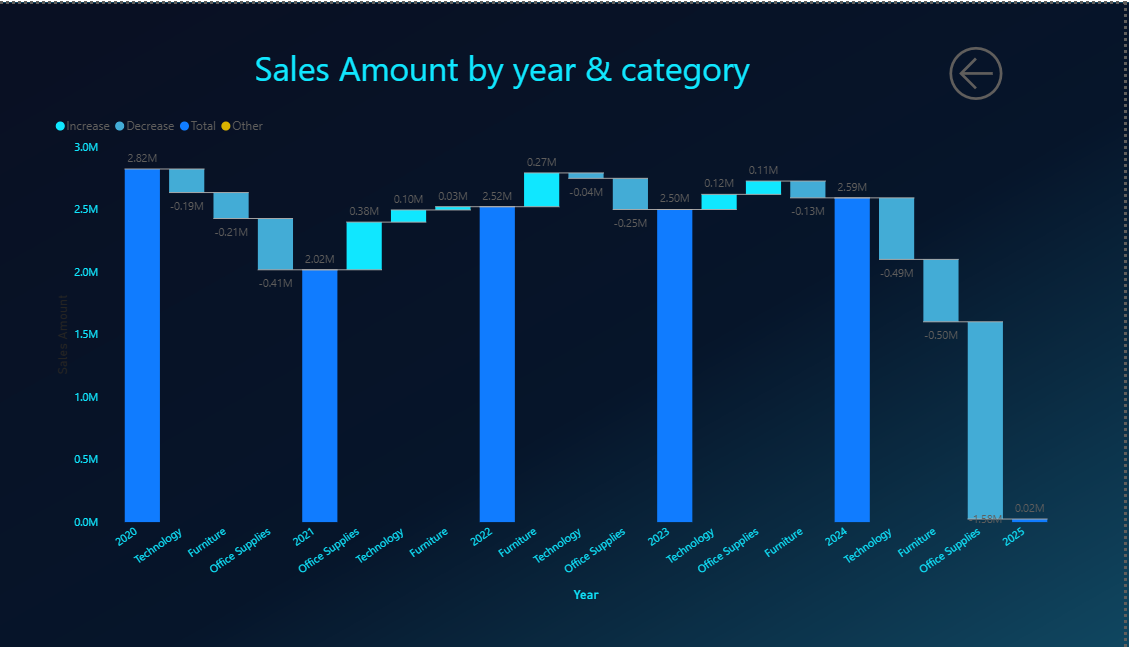

This screenshot's page, from the dashboard's own definition file:
{"tool":"powerbi","page":{"name":"Waterfall","canvas":[1280,720],"ordinal":3},"visuals":[{"type":"waterfallChart","fields":{"Breakdown":["Supply Chain.Category"],"Category":["Supply Chain.Order_Date.Variation.Date Hierarchy.Year"],"Y":["Supply Chain.Sales Amount"]},"box":[86,114.6,1132.8,554.3],"z":0},{"type":"textbox","box":[86,40.3,1004.8,64.5],"z":1000},{"type":"actionButton","box":[1079.1,40.3,148.7,74.3],"z":2000},{"type":"actionButton","box":[0,0,100,40],"z":3000}]}

Visuals, with their boxes in screenshot pixels (x1, y1, x2, y2), scaled from the page's 1280x720 canvas onto the 1129x647 screenshot:
waterfallChart - Supply Chain.Category x Supply Chain.Order_Date.Variation.Date Hierarchy.Year: <bbox>76, 103, 1075, 601</bbox>
textbox: <bbox>76, 36, 962, 94</bbox>
actionButton: <bbox>952, 36, 1083, 103</bbox>
actionButton: <bbox>0, 0, 88, 36</bbox>
